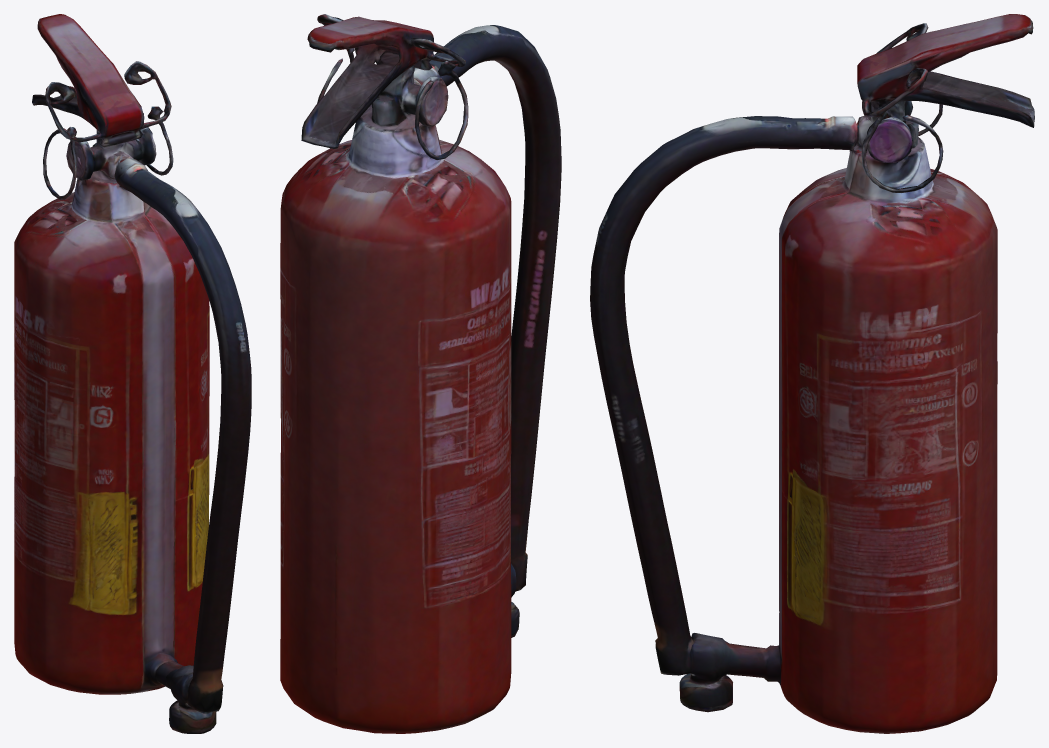
3 views of the same model, side by side, from view 1: azimuth 30°, elevation 25°; view 2: azimuth 150°, elevation 25°; view 3: azimuth 270°, elevation 25° (orthographic). The views are drawn at different scales.
Size of the model in its own units: 0.5895 by 2 by 1.18.
Materials: 1 (1 with a texture image).
